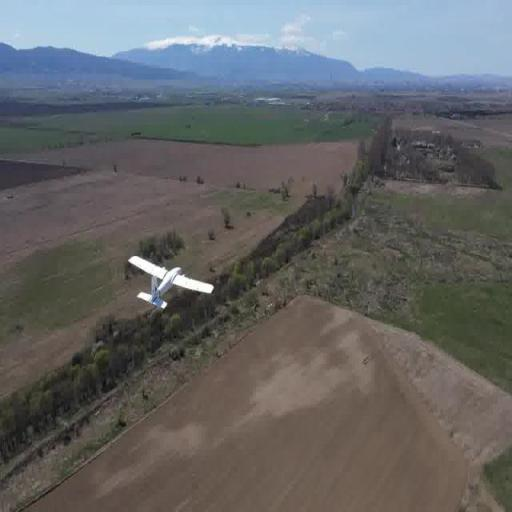uav: (126, 250, 218, 322)
